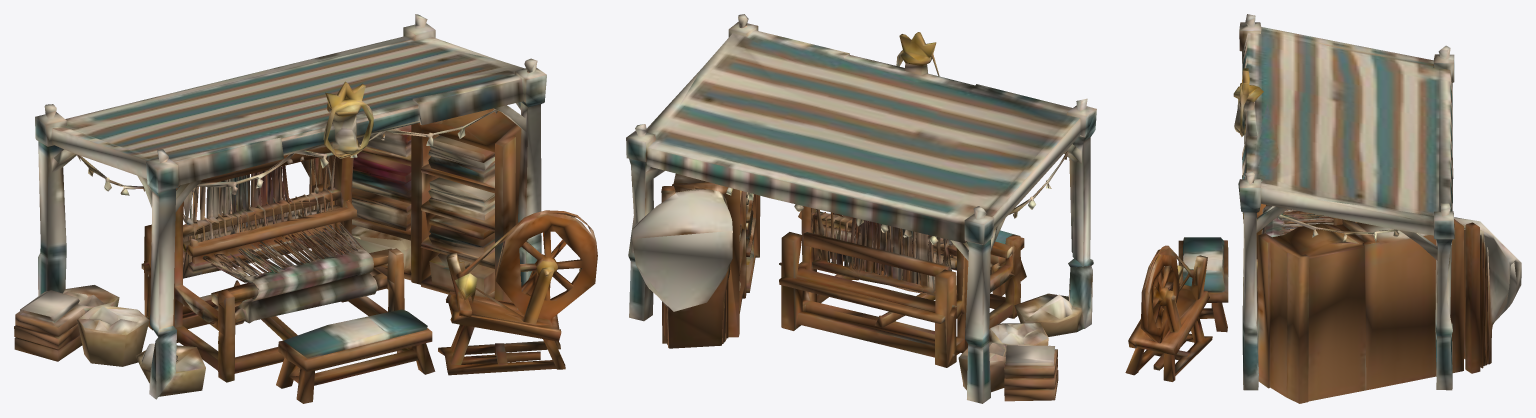
File: zhibu-3.glb
The picture shows the model from 3 angles, left to right: view 1: azimuth 30°, elevation 25°; view 2: azimuth 150°, elevation 25°; view 3: azimuth 270°, elevation 25°; orthographic projection. The views are drawn at different scales.
Visible parts, largest first — view 1: node_0; view 2: node_0; view 3: node_0.
Part boxes in pixels (<box>): node_0: <box>14,14,597,403</box>; node_0: <box>626,14,1096,403</box>; node_0: <box>1125,14,1521,403</box>.
Bounding box in the file's own units: 0.9619 × 0.5536 × 0.8237.
Materials: 1 (1 with a texture image).
